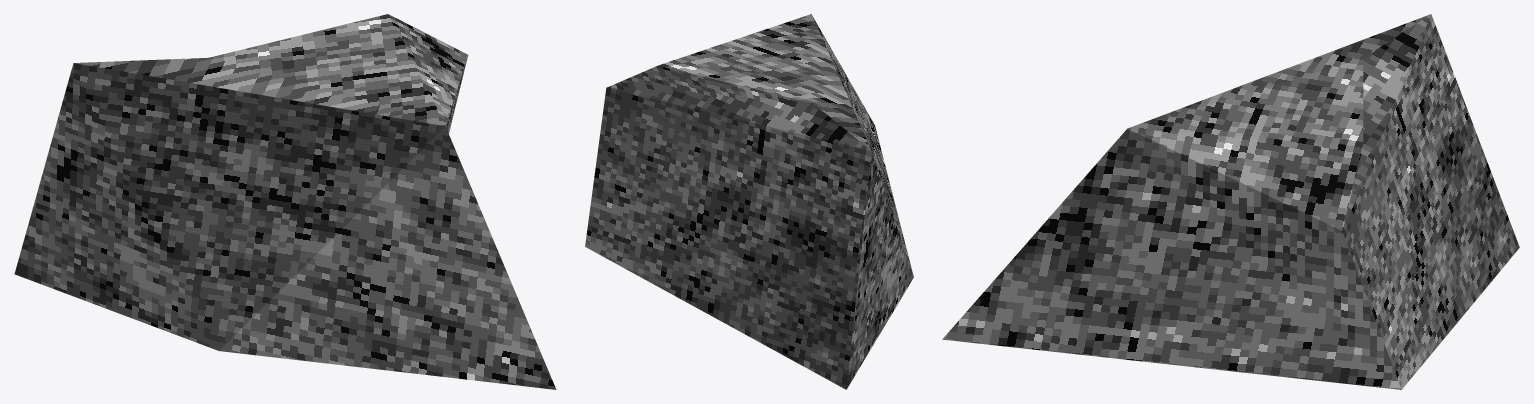
The model's file is rock.glb.
3 views of the same model, side by side, from view 1: azimuth 30°, elevation 25°; view 2: azimuth 150°, elevation 25°; view 3: azimuth 270°, elevation 25° (orthographic). The views are drawn at different scales.
Visible parts, largest first — view 1: Cube; view 2: Cube; view 3: Cube.
Part boxes in pixels (bbox=[...]): Cube: bbox=[14, 14, 556, 389]; Cube: bbox=[585, 14, 913, 389]; Cube: bbox=[942, 14, 1519, 389].
Bounding box in the file's own units: 1.89 × 1.21 × 2.58.
1 material, 1 textured.
